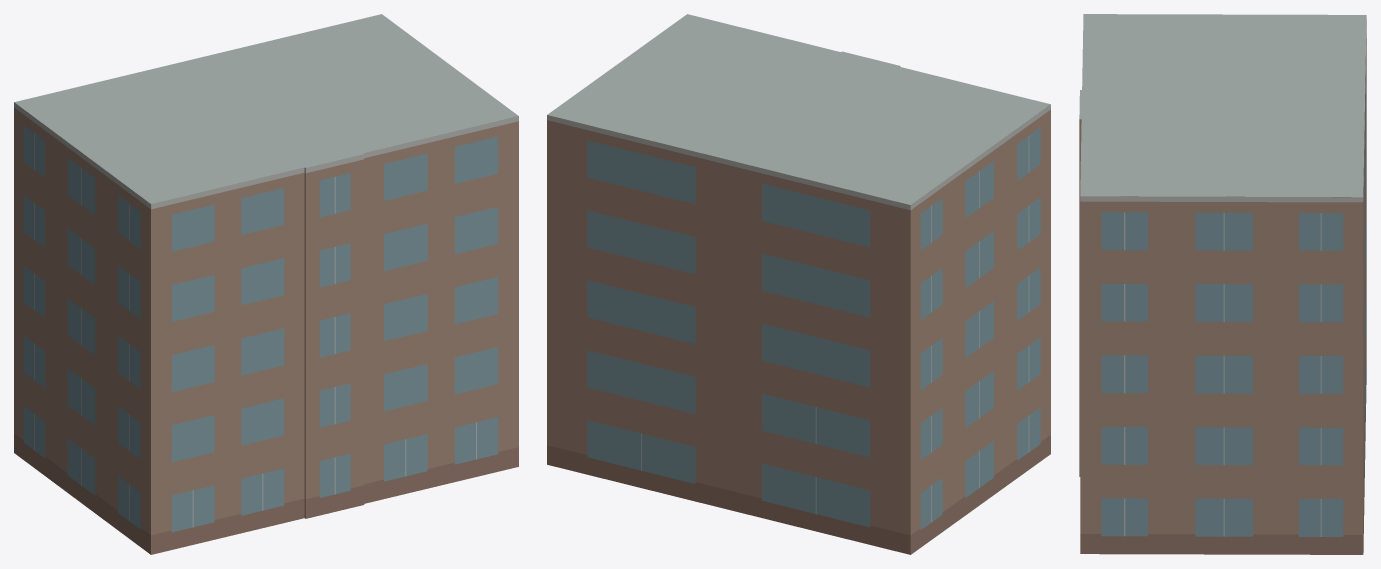
The model's file is survey-upis-32733846.glb.
The picture shows the model from 3 angles, left to right: view 1: azimuth 30°, elevation 25°; view 2: azimuth 150°, elevation 25°; view 3: azimuth 270°, elevation 25°; orthographic projection. The views are drawn at different scales.
Parts seen in each view (by area): view 1: survey-upis-32733846.tmp; view 2: survey-upis-32733846.tmp; view 3: survey-upis-32733846.tmp.
Boxes of the visible parts, box(x1,y1,x2,y2) form: survey-upis-32733846.tmp: box(14, 14, 518, 554); survey-upis-32733846.tmp: box(547, 14, 1050, 554); survey-upis-32733846.tmp: box(1079, 14, 1366, 554).
Bounding box in the file's own units: 18.13 × 16.5 × 12.02.
